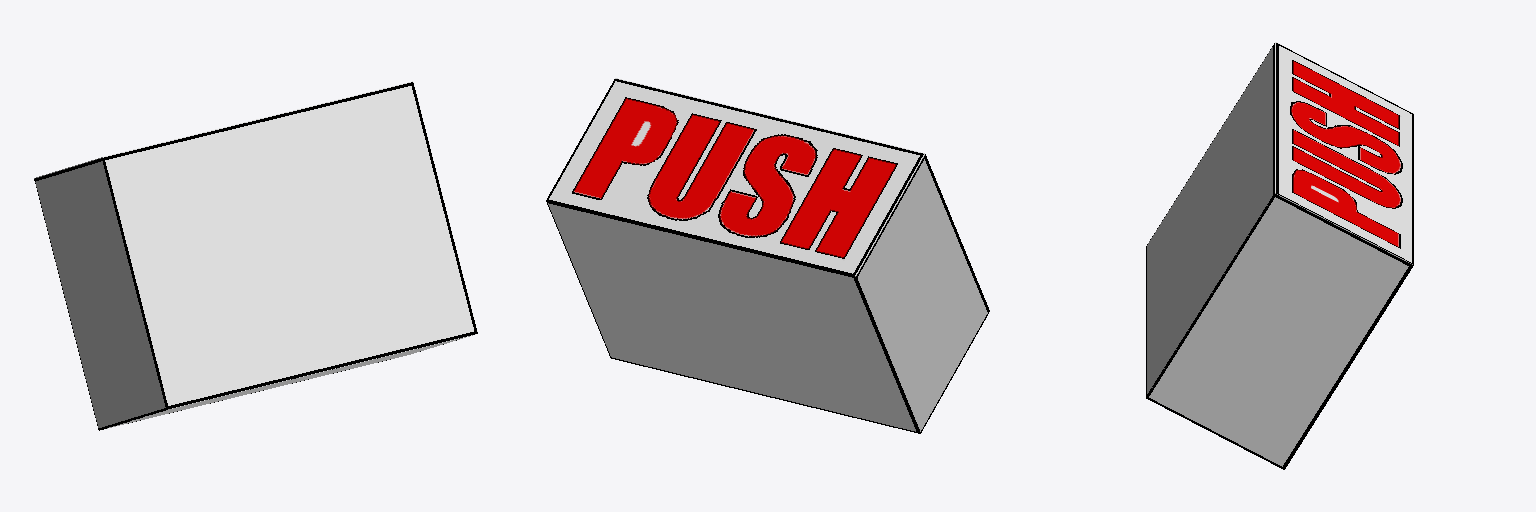
3 renders of one model, left to right at view 1: azimuth 30°, elevation 25°; view 2: azimuth 150°, elevation 25°; view 3: azimuth 270°, elevation 25°, orthographic.
Parts seen in each view (by area): view 1: 立方体; view 2: 立方体; view 3: 立方体.
Boxes of the visible parts, x1=… form: 立方体: x1=34, y1=81, x2=477, y2=430; 立方体: x1=546, y1=78, x2=989, y2=433; 立方体: x1=1146, y1=42, x2=1413, y2=469.
Size of the model in its own units: 2.13 by 1.82 by 1.6.
1 materials, 1 textured.